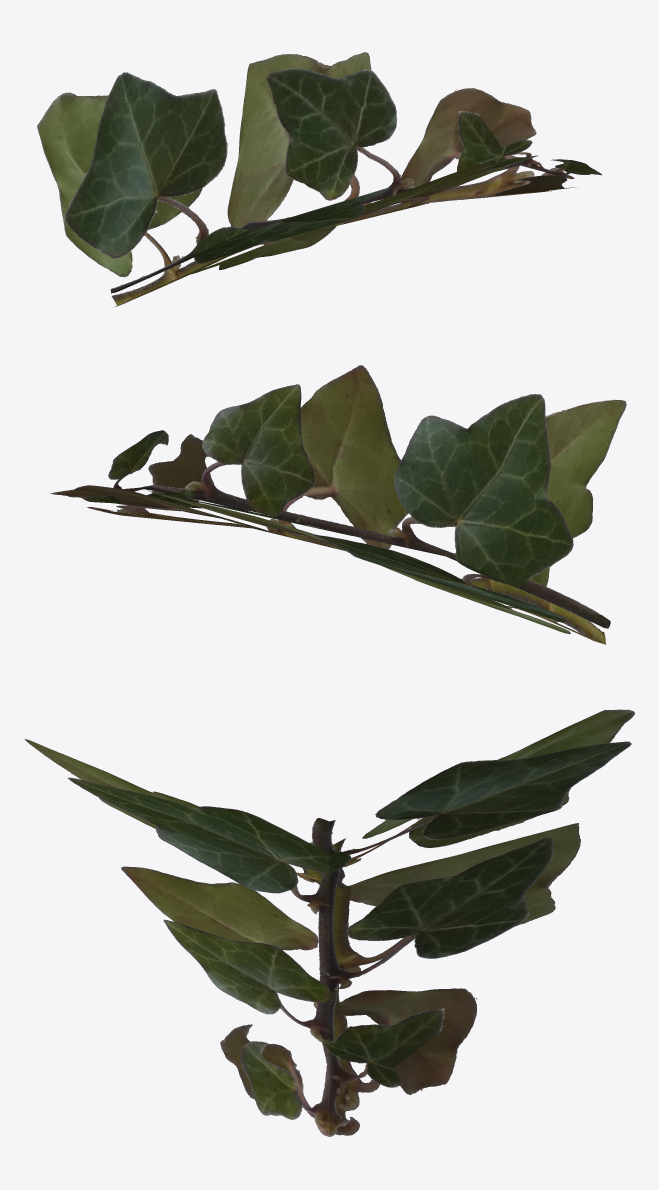
Rendered from stumbletwine_00.fbx.
The picture shows the model from 3 angles, top to bottom: view 1: azimuth 30°, elevation 25°; view 2: azimuth 150°, elevation 25°; view 3: azimuth 270°, elevation 25°; orthographic projection. The views are drawn at different scales.
Visible parts, largest first — view 1: stumbletwine_00; view 2: stumbletwine_00; view 3: stumbletwine_00.
Boxes of the visible parts, box(x1,y1,x2,y2) form: stumbletwine_00: box(37, 52, 601, 307); stumbletwine_00: box(50, 365, 626, 644); stumbletwine_00: box(25, 709, 634, 1136).
Bounding box in the file's own units: 16.5 × 21.96 × 6.35.
